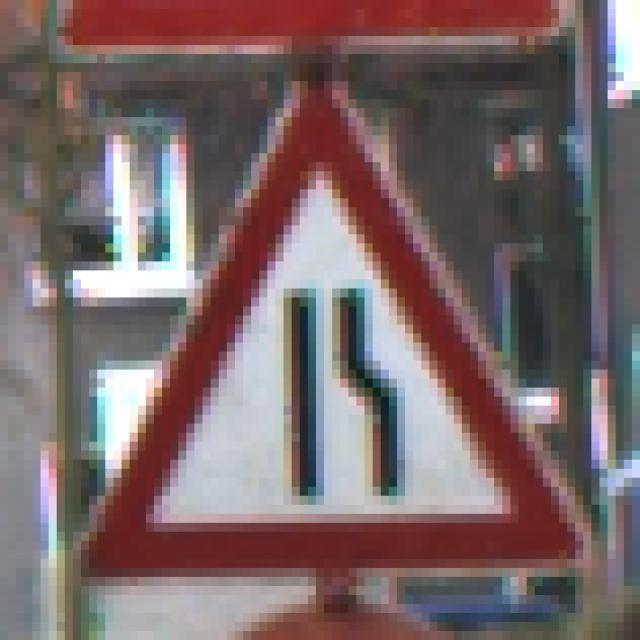narrow road ahead: (78, 82, 580, 561)
